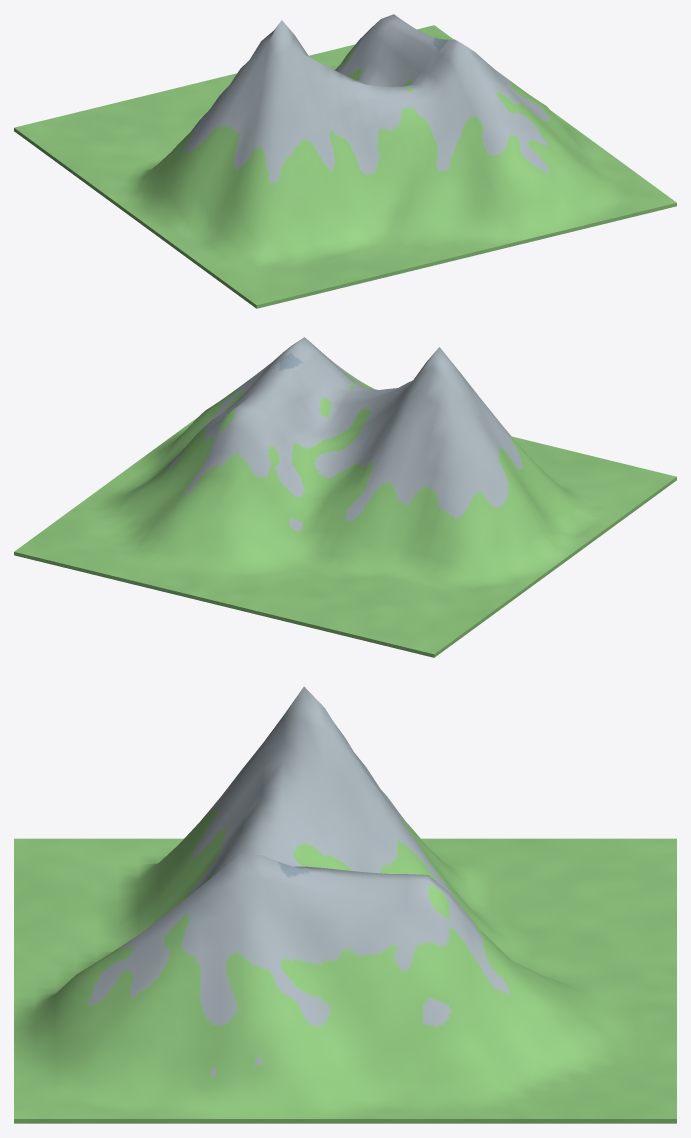
File: Grass_RockyMountains_05.obj
The picture shows the model from 3 angles, top to bottom: view 1: azimuth 30°, elevation 25°; view 2: azimuth 150°, elevation 25°; view 3: azimuth 270°, elevation 25°; orthographic projection. The views are drawn at different scales.
Size of the model in its own units: 10 by 4.07 by 10.
1 material, 1 textured.
